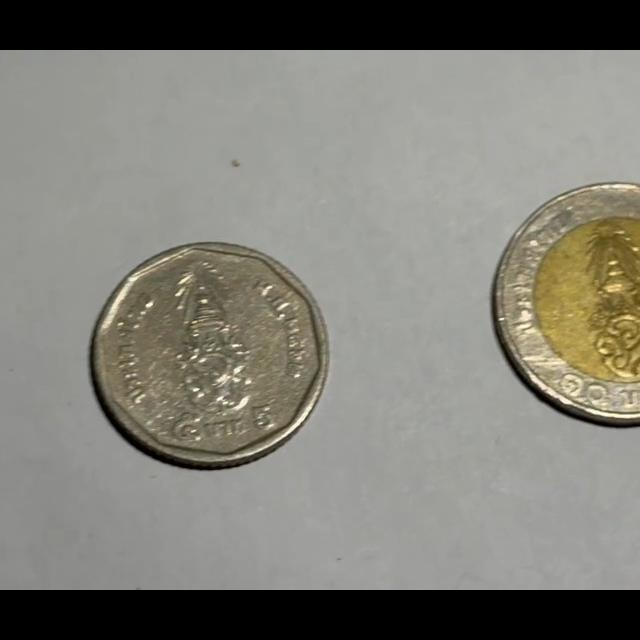10-baht: (489, 183, 640, 425)
5-baht: (88, 240, 329, 471)
